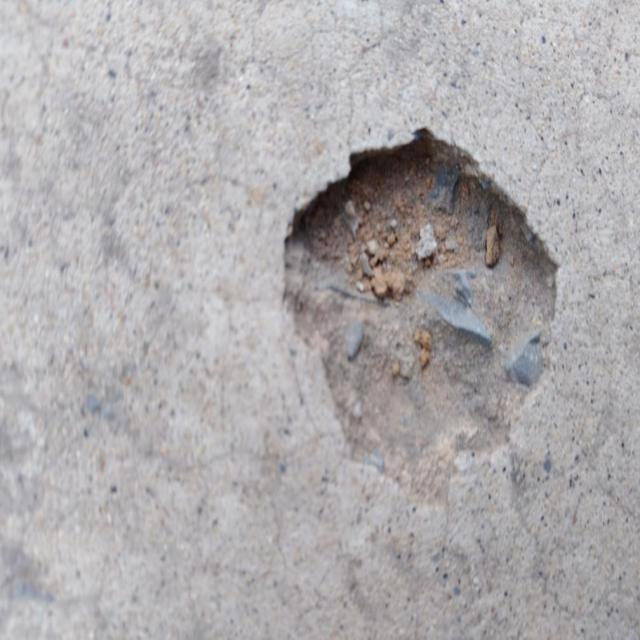concrete spalling: (280, 125, 560, 499)
